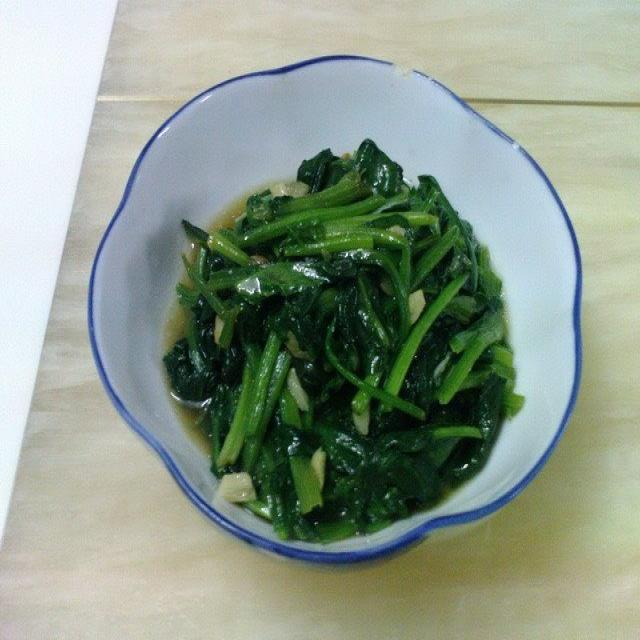蔬菜料理: (105, 67, 450, 608)
